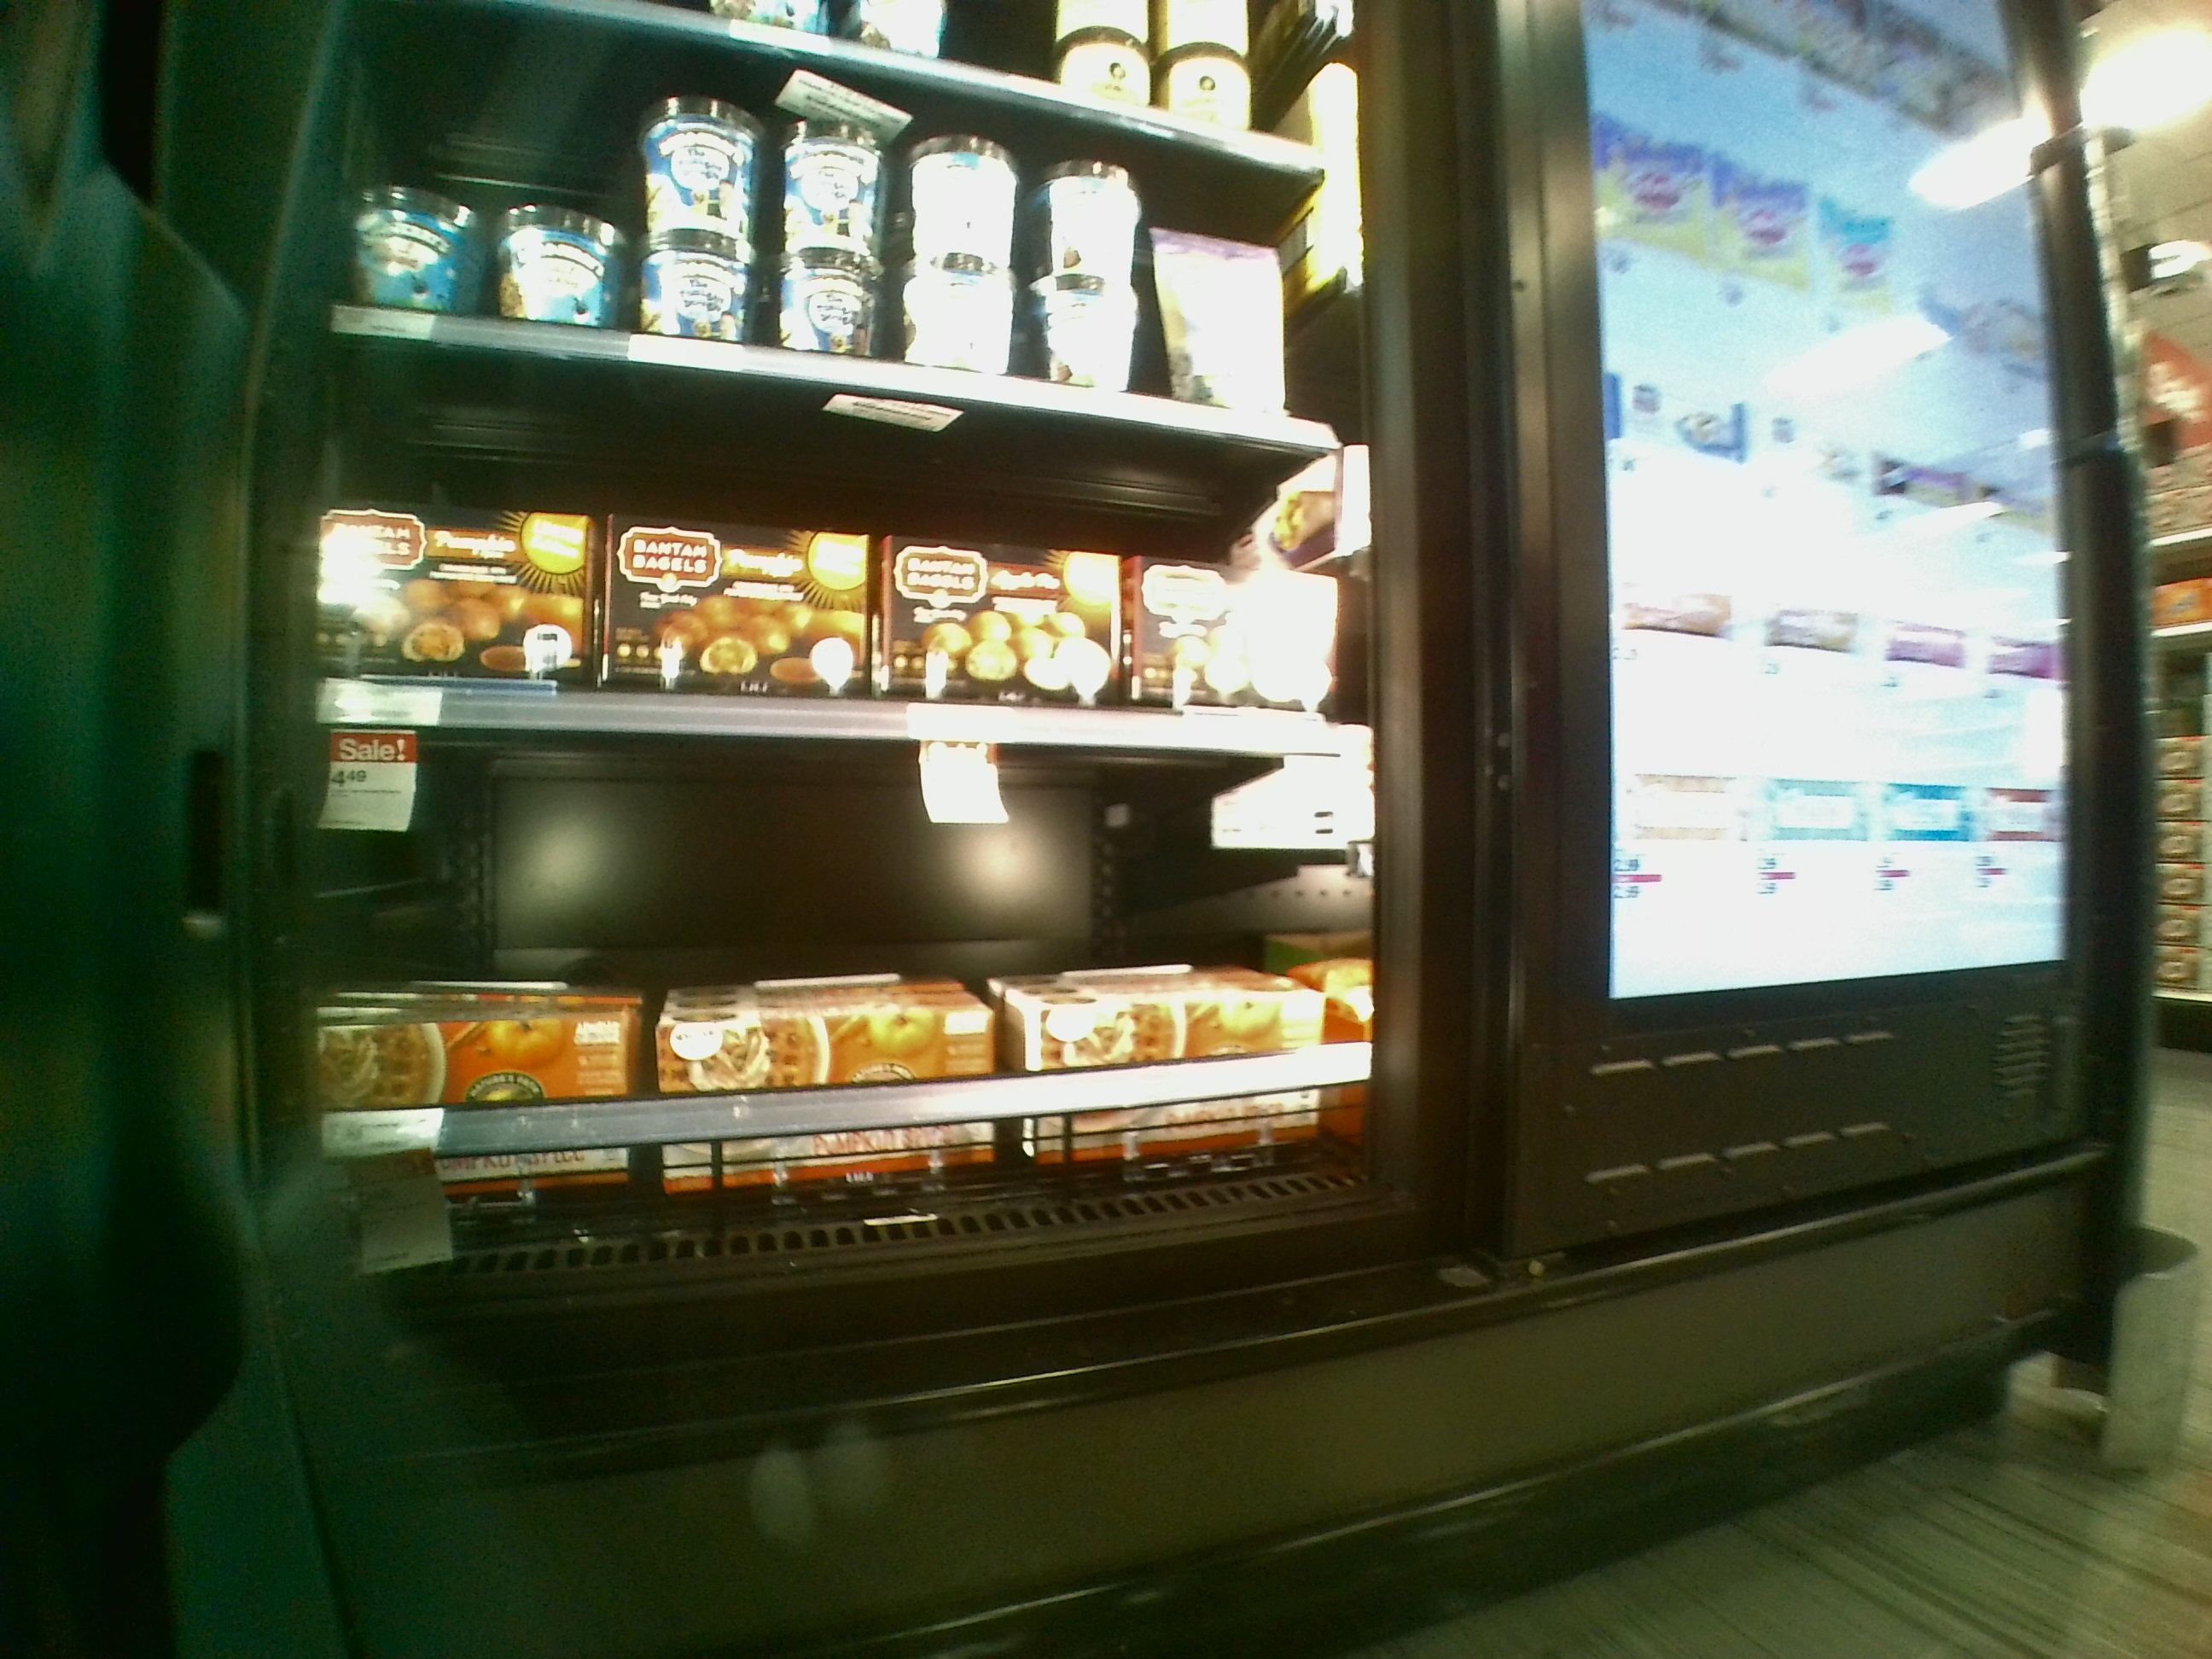shelf: (242, 716, 1399, 1281), (298, 333, 1348, 753)
